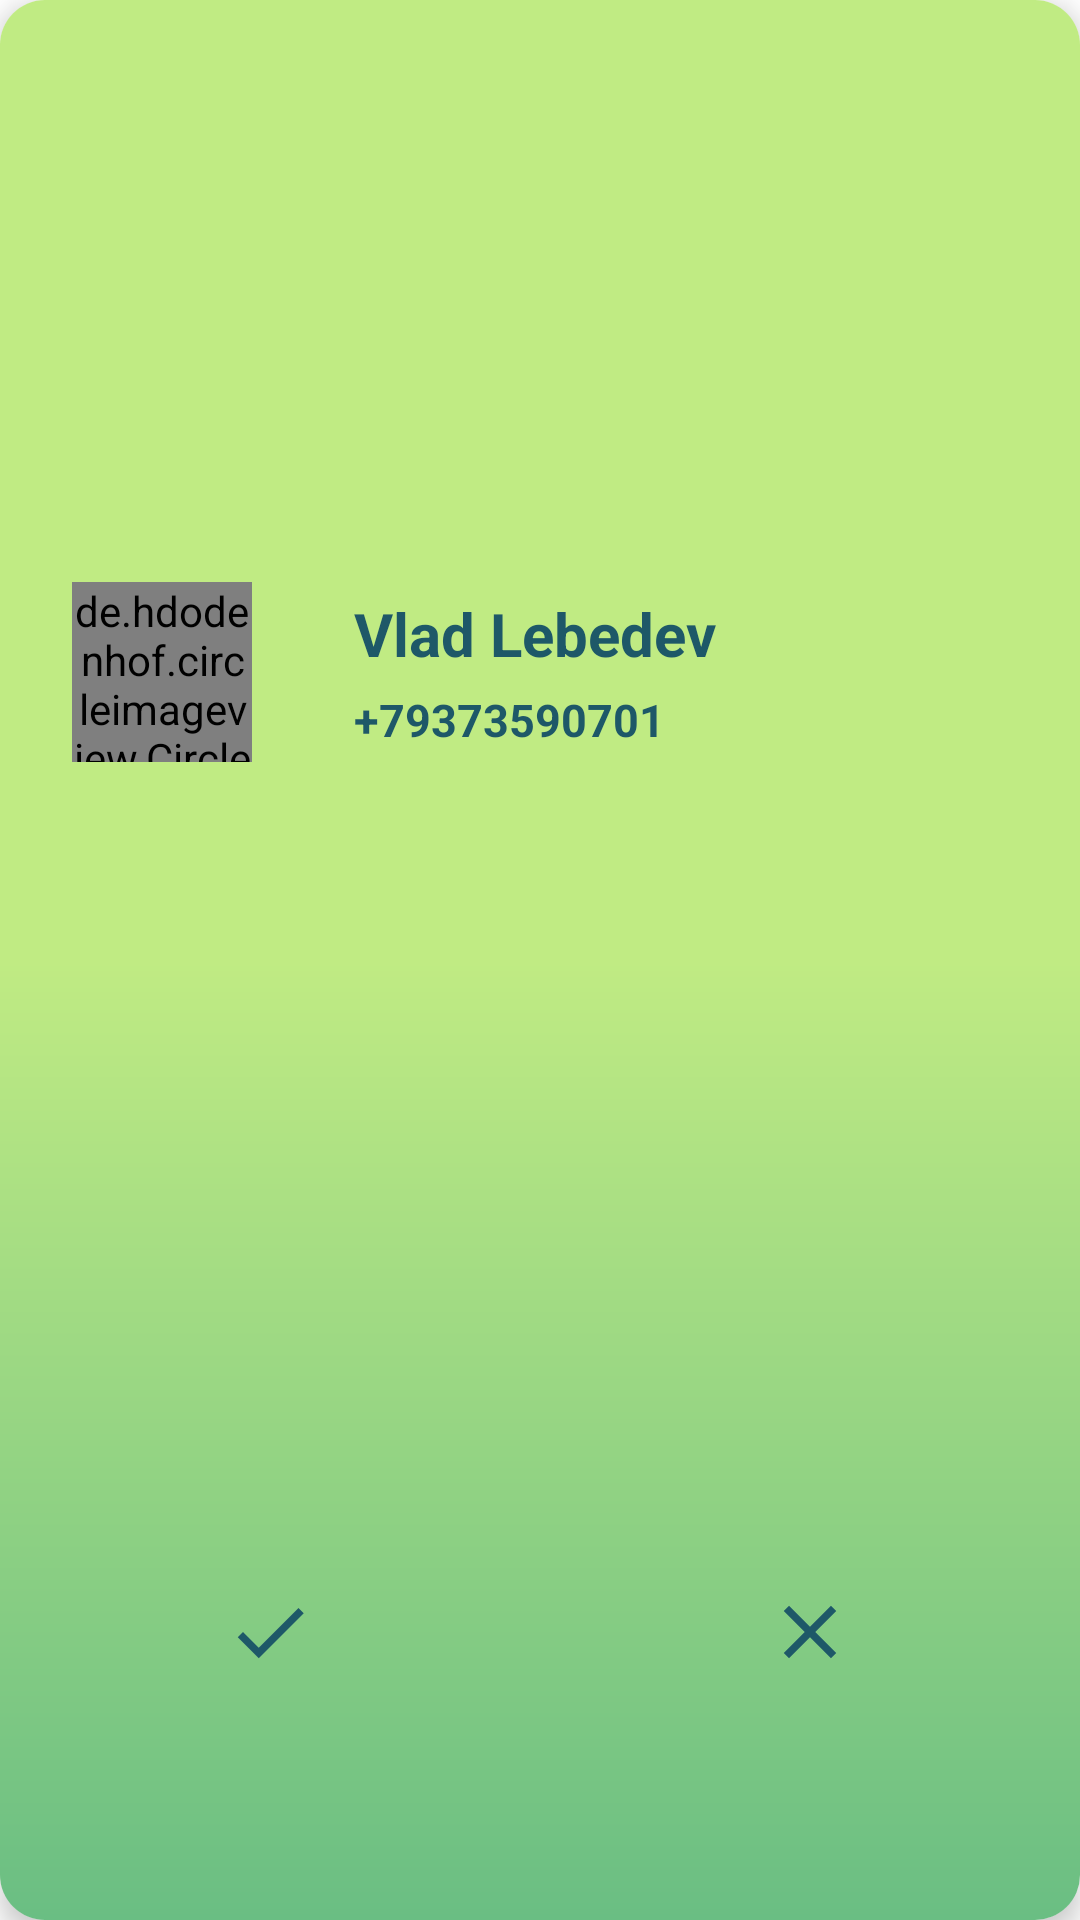

Icons on this 1080 × 1920 Android screen, each with the point to tap as point (x, y):
close: point (810, 1632)
done: point (271, 1633)
